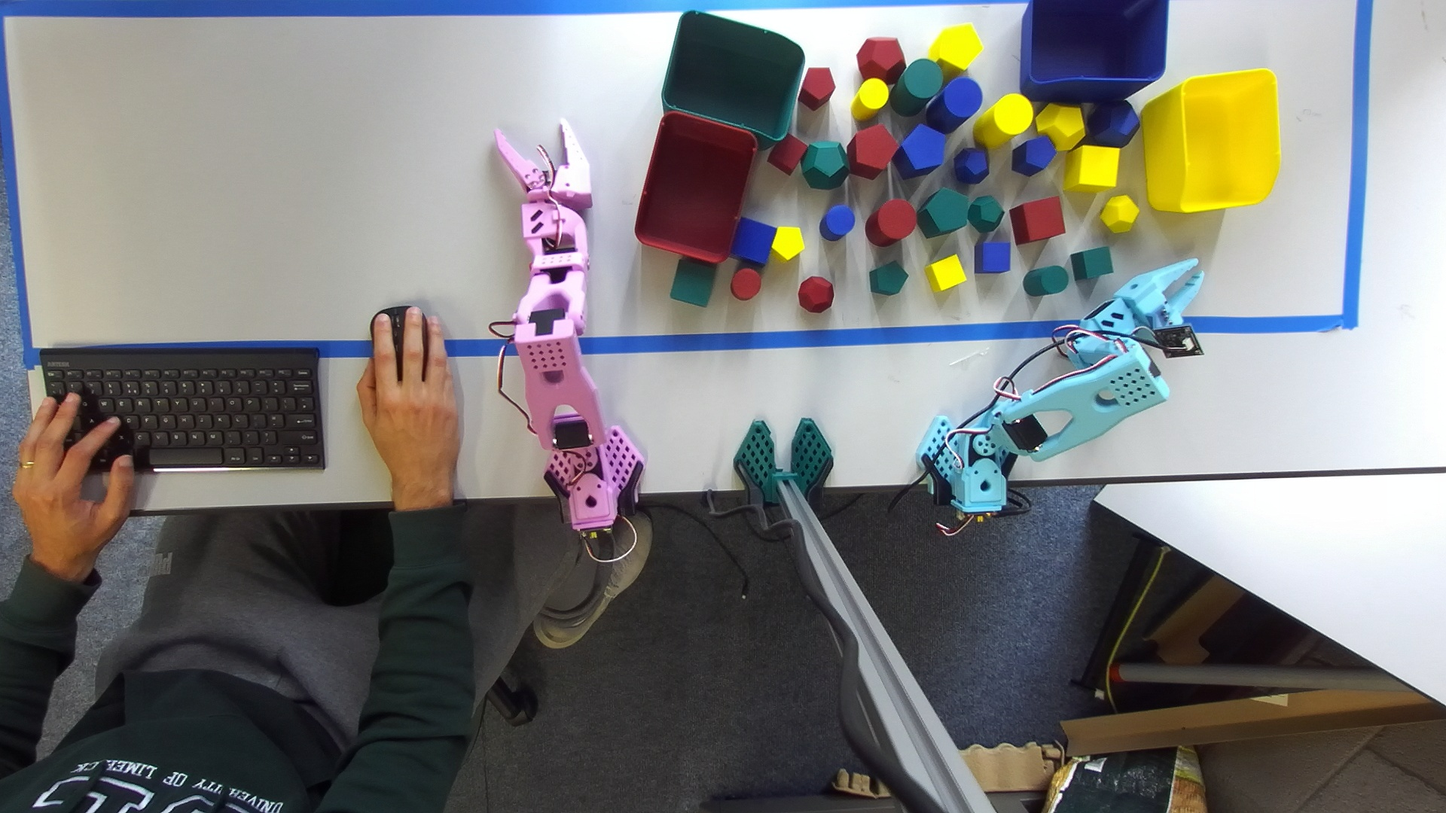bin: (1140, 69, 1280, 212), (661, 11, 804, 147), (635, 111, 755, 263), (1020, 0, 1168, 103)
cube: (1009, 196, 1064, 244), (1063, 145, 1119, 192), (670, 257, 716, 307), (731, 217, 776, 267), (767, 134, 807, 175), (924, 254, 966, 292), (1070, 246, 1113, 280), (974, 242, 1010, 273)
cylinder: (972, 93, 1033, 148), (925, 77, 982, 134), (889, 59, 943, 116), (865, 199, 916, 246), (850, 78, 888, 120), (1023, 265, 1068, 296), (819, 204, 855, 241), (731, 267, 761, 300)
dodecahedron: (1083, 101, 1139, 148), (856, 37, 905, 85), (1035, 103, 1084, 151), (801, 141, 849, 189), (1100, 195, 1139, 233), (968, 196, 1004, 233), (798, 276, 834, 312), (953, 148, 989, 184)
gripper: (494, 117, 591, 213), (1115, 258, 1203, 326)
hexagonal: (928, 23, 982, 78), (892, 124, 945, 178), (847, 124, 898, 178), (917, 188, 969, 238), (1011, 136, 1055, 176), (798, 68, 834, 110), (868, 260, 908, 296), (772, 226, 804, 260)
